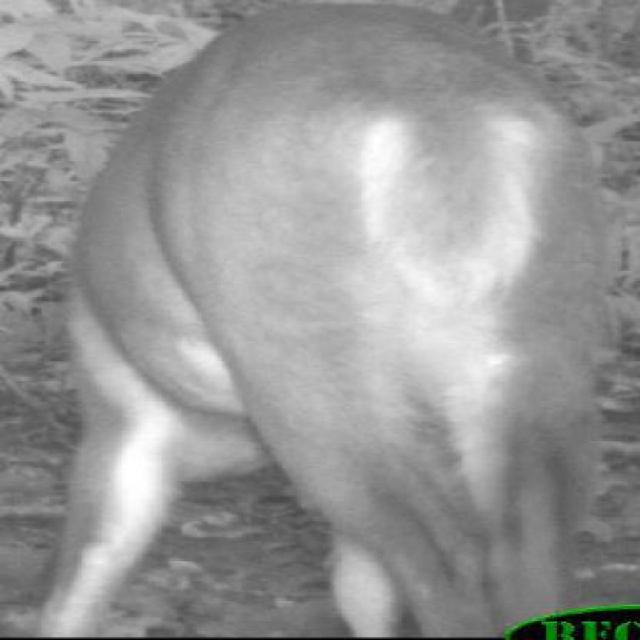Deer: (36, 12, 599, 639)
